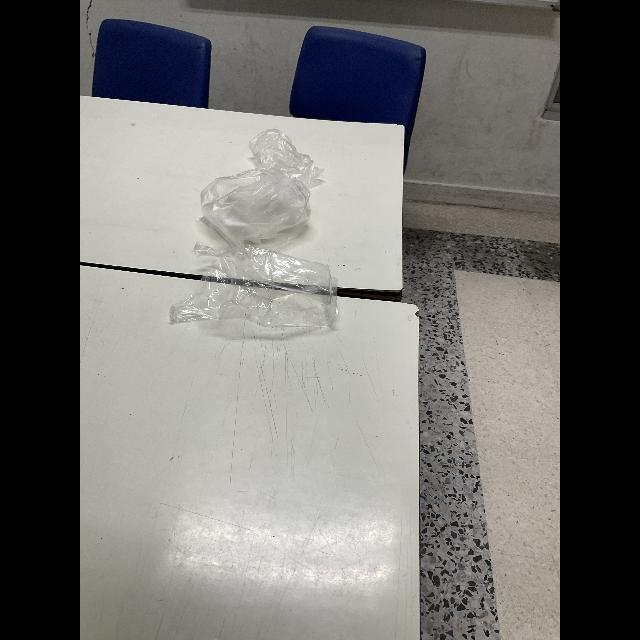plastic_bag: (172, 246, 350, 342), (193, 166, 323, 250), (240, 116, 336, 192)
